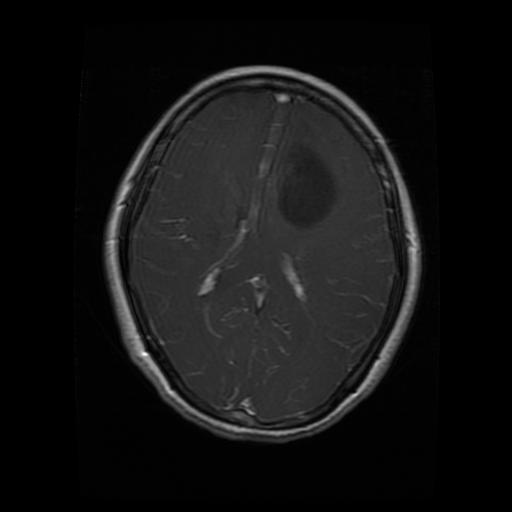Gliomia_tumour: (279, 145, 338, 229)
